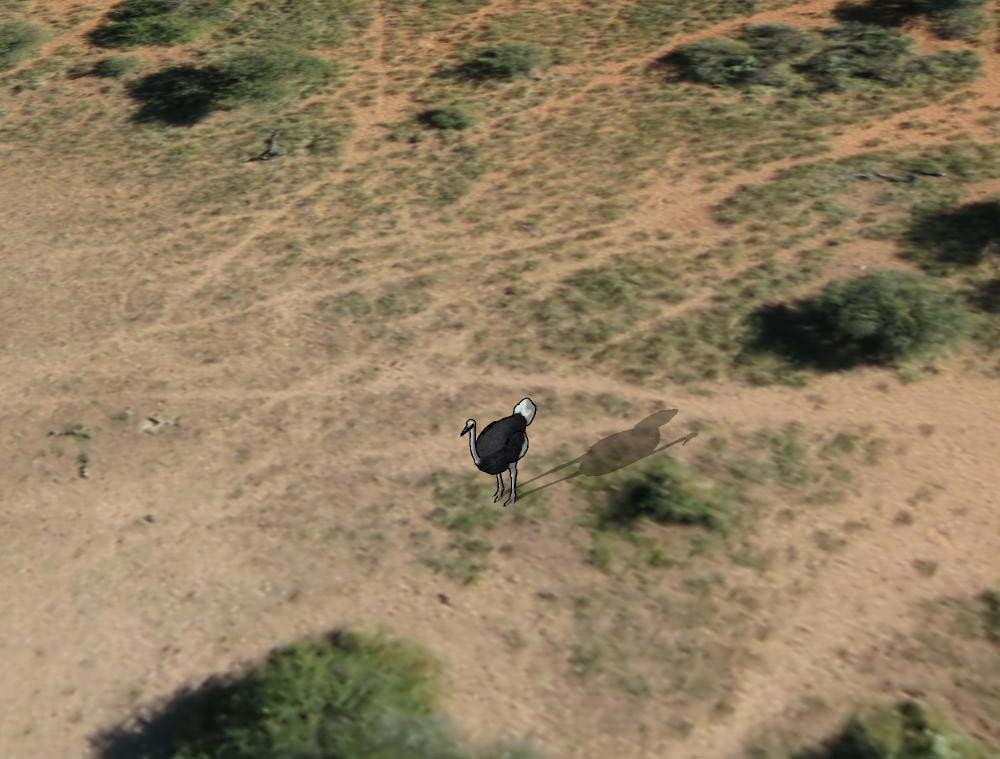ostrich: (461, 394, 539, 507)
